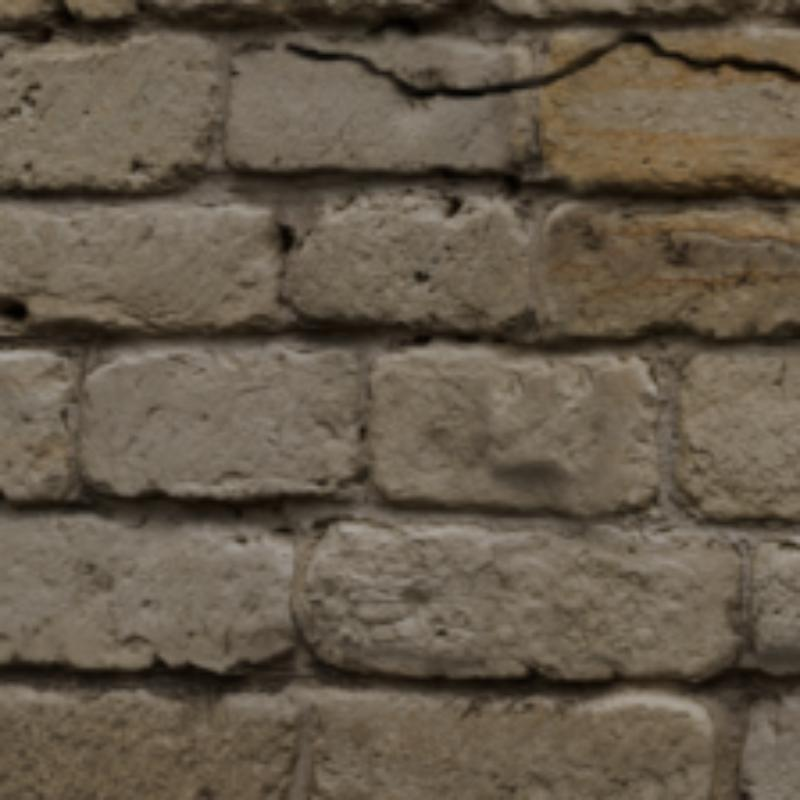crack: (282, 32, 796, 96)
